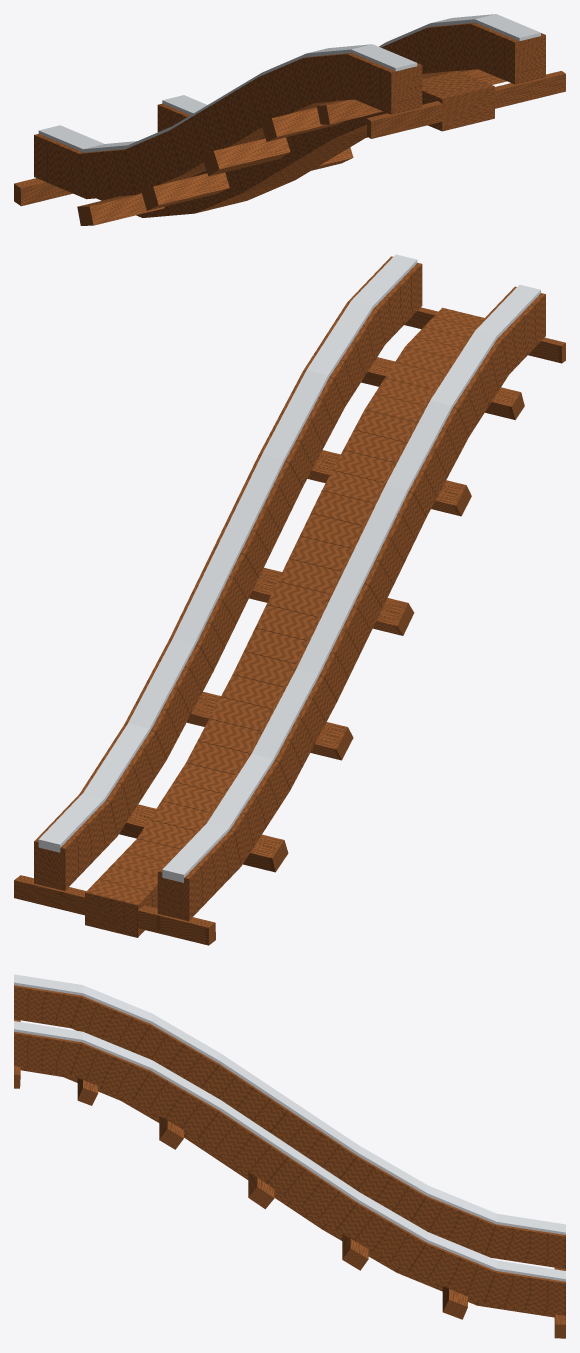
The model's file is theme-park-rides-and-coasters-theme-park-rides-and-coa-88bdc454__28648.glb.
The picture shows the model from 3 angles, top to bottom: view 1: azimuth 30°, elevation 25°; view 2: azimuth 150°, elevation 25°; view 3: azimuth 270°, elevation 25°; orthographic projection. The views are drawn at different scales.
Visible parts, largest first — view 1: theme-park-rides-and-coasters-timber-slope-up; view 2: theme-park-rides-and-coasters-timber-slope-up; view 3: theme-park-rides-and-coasters-timber-slope-up.
Part boxes in pixels (x1,y1,x2,y2): theme-park-rides-and-coasters-timber-slope-up: [14, 14, 565, 225]; theme-park-rides-and-coasters-timber-slope-up: [14, 254, 565, 945]; theme-park-rides-and-coasters-timber-slope-up: [14, 974, 565, 1338].
Bounding box in the file's own units: 1.26 × 2.46 × 4.
2 materials, 1 textured.
